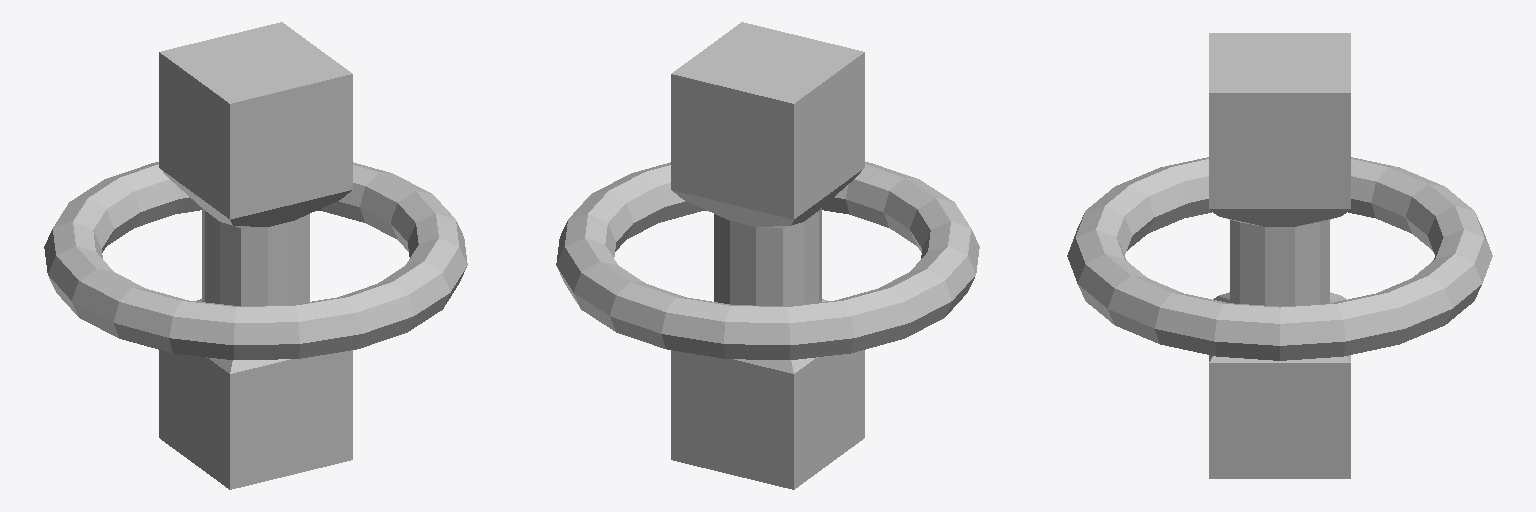
The model's file is Bar07.obj.
3 views of the same model, side by side, from view 1: azimuth 30°, elevation 25°; view 2: azimuth 150°, elevation 25°; view 3: azimuth 270°, elevation 25° (orthographic).
Parts seen in each view (by area): view 1: Bar07; view 2: Bar07; view 3: Bar07.
Part boxes in pixels (bbox=[...]): Bar07: bbox=[44, 22, 467, 489]; Bar07: bbox=[556, 22, 979, 489]; Bar07: bbox=[1067, 33, 1492, 478].
Size of the model in its own units: 2 by 2 by 2.